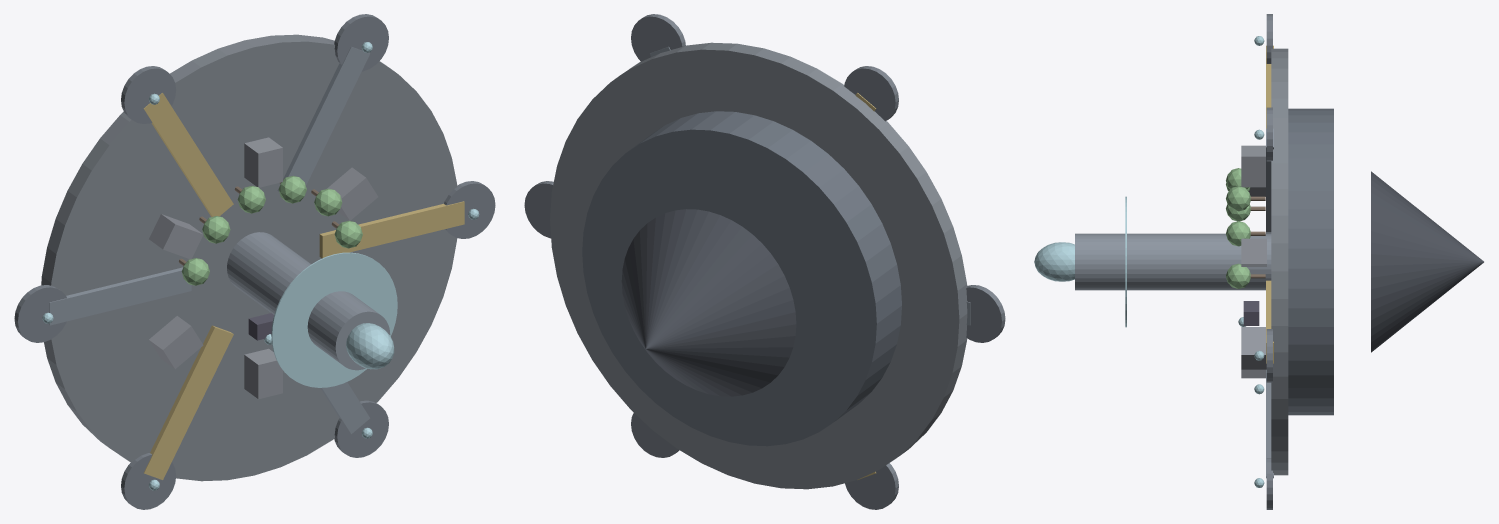
Rendered from SWHQ-001_aerie_of_the_dawnshield.glb.
The picture shows the model from 3 angles, left to right: view 1: azimuth 30°, elevation 25°; view 2: azimuth 150°, elevation 25°; view 3: azimuth 270°, elevation 25°; orthographic projection. The views are drawn at different scales.
Parts seen in each view (by area): view 1: central_aerie_platform, stormglass_war_room_ring, dawnshield_command_tower, docking_arm_5, docking_arm_4, docking_arm_3, docking_arm_2, docking_arm_1, dock_pad_3, dock_pad_4, dock_pad_2, dock_pad_5 (+16 smaller); view 2: central_aerie_platform, lower_cloud_anchor, inverted_aether_keel, dock_pad_4, dock_pad_3, dock_pad_2, dock_pad_5, dock_pad_1, dock_pad_6; view 3: lower_cloud_anchor, inverted_aether_keel, dawnshield_command_tower, central_aerie_platform, aether_beacon, cloud_barracks_block_2, cloud_barracks_block_6, cloud_barracks_block_1, living_garden_canopy_3.
Boxes of the visible parts, box(x1,y1,x2,y2) form: central_aerie_platform: box(41, 34, 457, 481); stormglass_war_room_ring: box(271, 252, 397, 387); dawnshield_command_tower: box(227, 232, 390, 370); docking_arm_5: box(144, 325, 233, 479); docking_arm_4: box(49, 267, 191, 325); docking_arm_3: box(143, 93, 233, 216); docking_arm_2: box(277, 46, 369, 191); docking_arm_1: box(319, 201, 464, 258); dock_pad_3: box(121, 66, 175, 123); dock_pad_4: box(14, 285, 66, 342); dock_pad_2: box(334, 14, 388, 71); dock_pad_5: box(121, 453, 176, 509); central_aerie_platform: box(550, 42, 967, 489); lower_cloud_anchor: box(582, 111, 901, 446); inverted_aether_keel: box(621, 209, 796, 396); dock_pad_4: box(966, 285, 1005, 342); dock_pad_3: box(844, 66, 898, 121); dock_pad_2: box(631, 14, 685, 61); dock_pad_5: box(845, 463, 898, 509); dock_pad_1: box(524, 181, 553, 238); dock_pad_6: box(631, 412, 679, 457); lower_cloud_anchor: box(1288, 108, 1333, 415); inverted_aether_keel: box(1371, 171, 1483, 352); dawnshield_command_tower: box(1075, 233, 1271, 290); central_aerie_platform: box(1271, 48, 1288, 475); aether_beacon: box(1034, 242, 1074, 281); cloud_barracks_block_2: box(1241, 145, 1265, 187); cloud_barracks_block_6: box(1241, 327, 1266, 369); cloud_barracks_block_1: box(1241, 238, 1266, 266); living_garden_canopy_3: box(1226, 186, 1250, 211).
Size of the model in its own units: 17.5 by 15.41 by 15.83.
